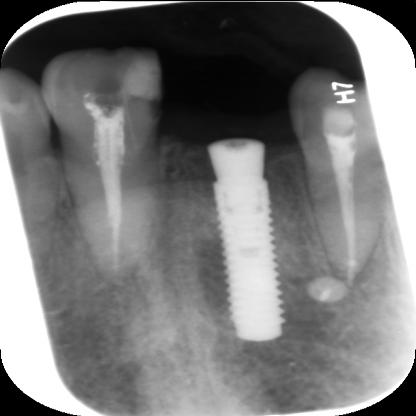ITI: (206, 135, 284, 340)
